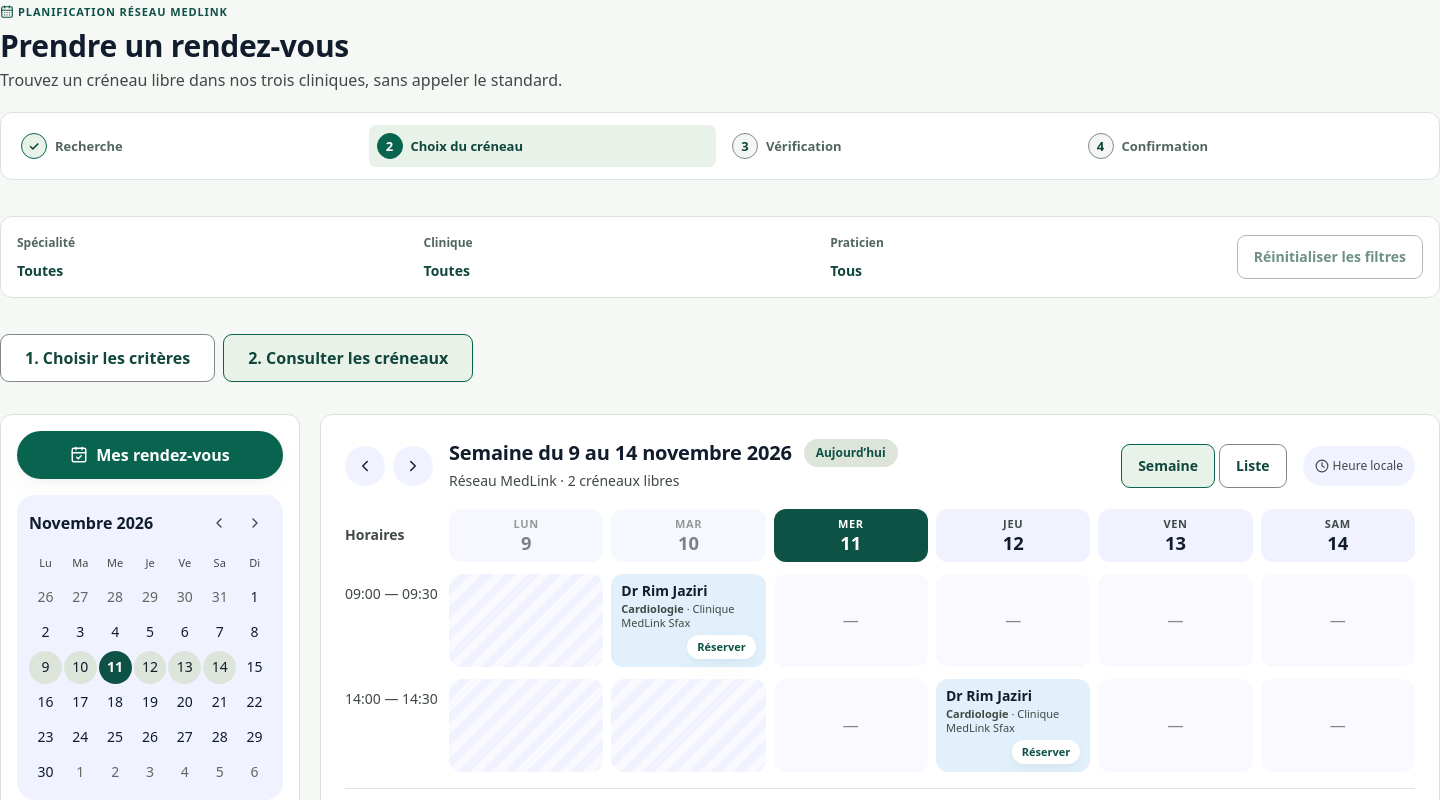
Scenario: 409: the API message is shown and the results are refreshed
The width and height of the screenshot is (1440, 800).
Click the 1st button "Réserver" at (721, 647), box [687,635,756,659]
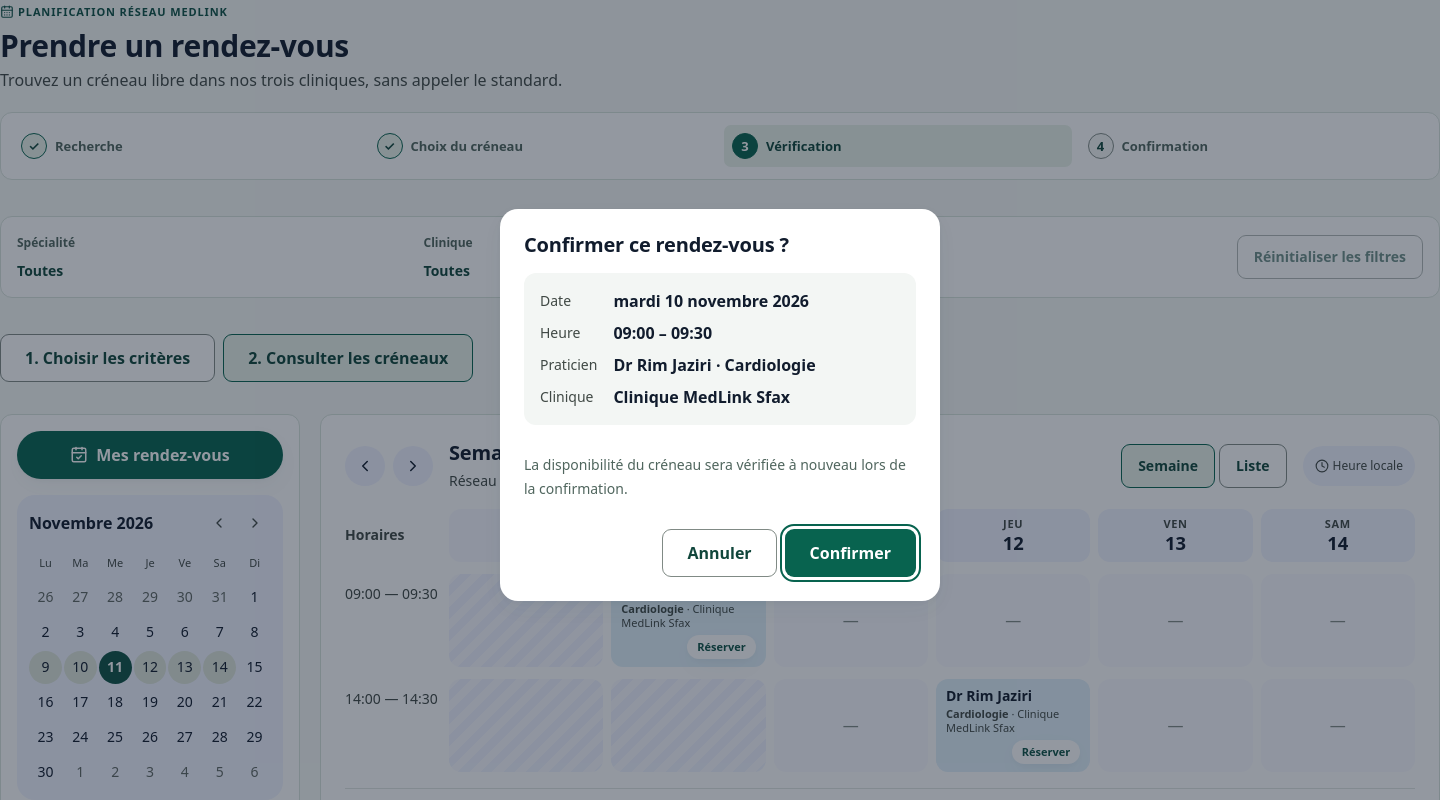
Click the button "Confirmer" at (850, 553), box [785,529,916,577]
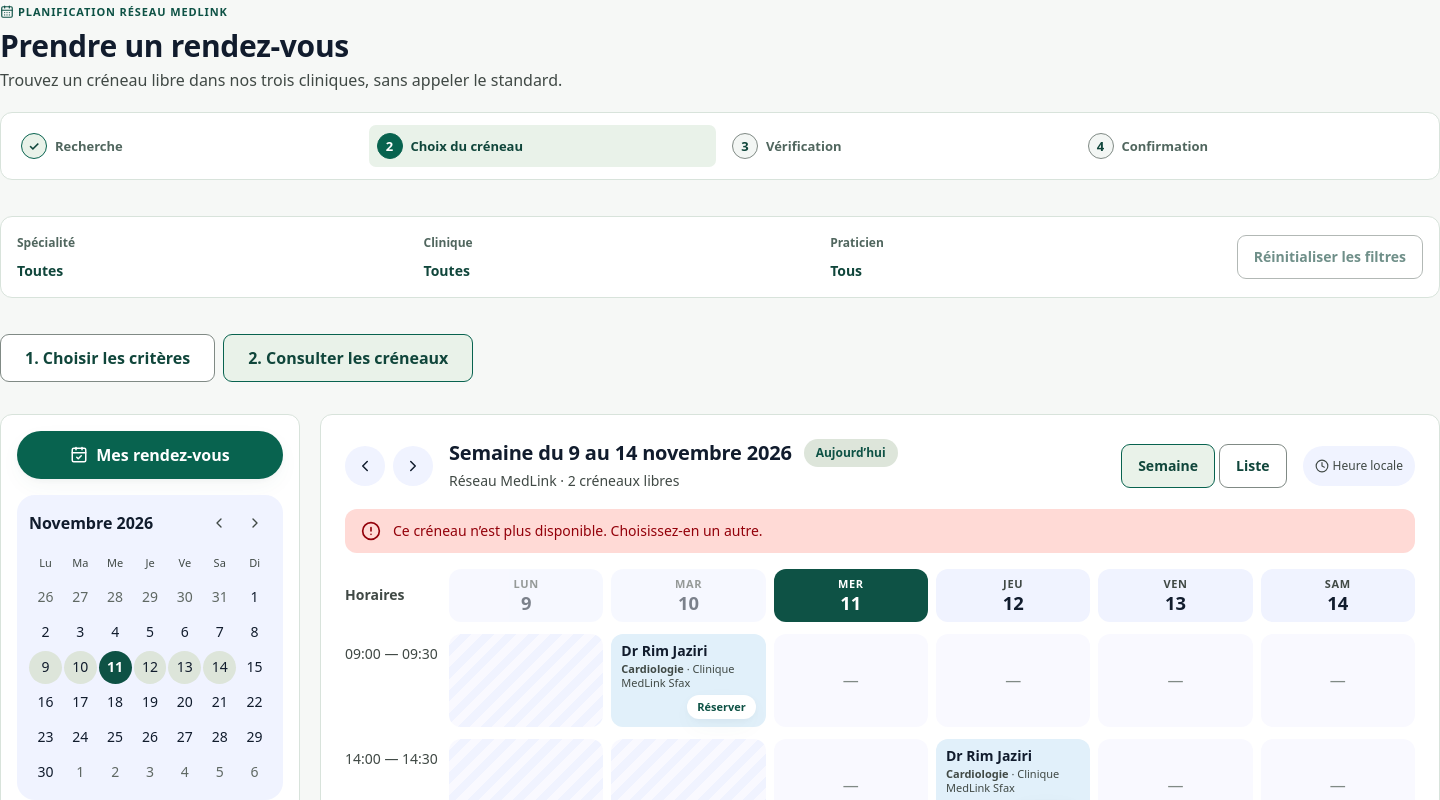
Now the text "Ce créneau n’est plus disponible. Choisissez-en un autre." is shown, box [345,509,1415,553]
Now the dialog is gone
